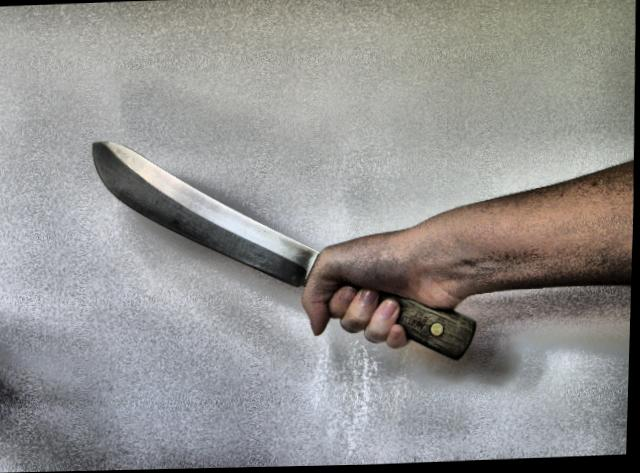knife: (59, 114, 402, 354)
